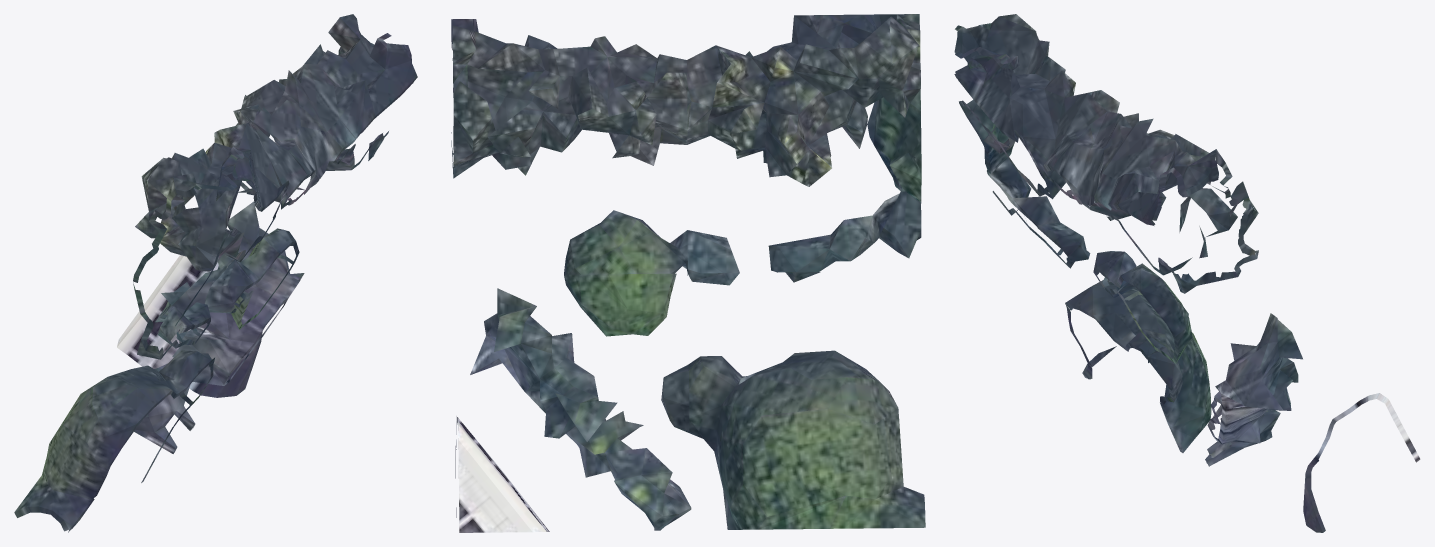
3 renders of one model, left to right at view 1: azimuth 30°, elevation 25°; view 2: azimuth 150°, elevation 25°; view 3: azimuth 270°, elevation 25°, orthographic. The views are drawn at different scales.
Bounding box in the file's own units: 40.09 × 37.27 × 38.23.
Materials: 2 (2 with a texture image).
